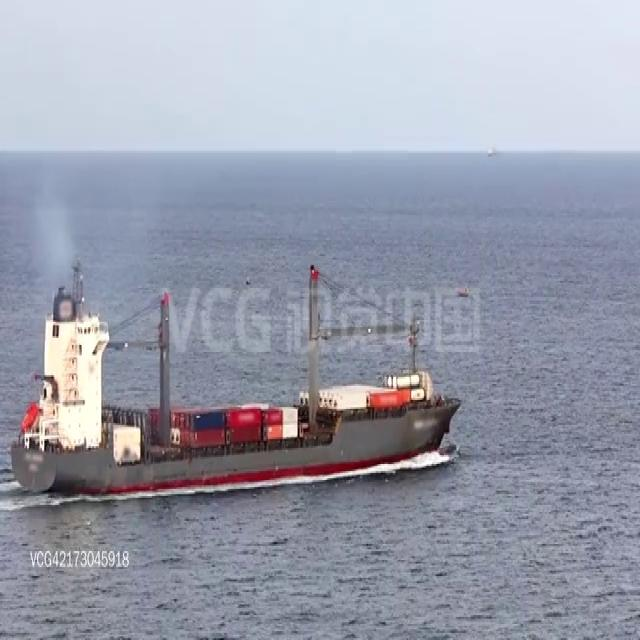cargoship: (10, 252, 455, 493)
